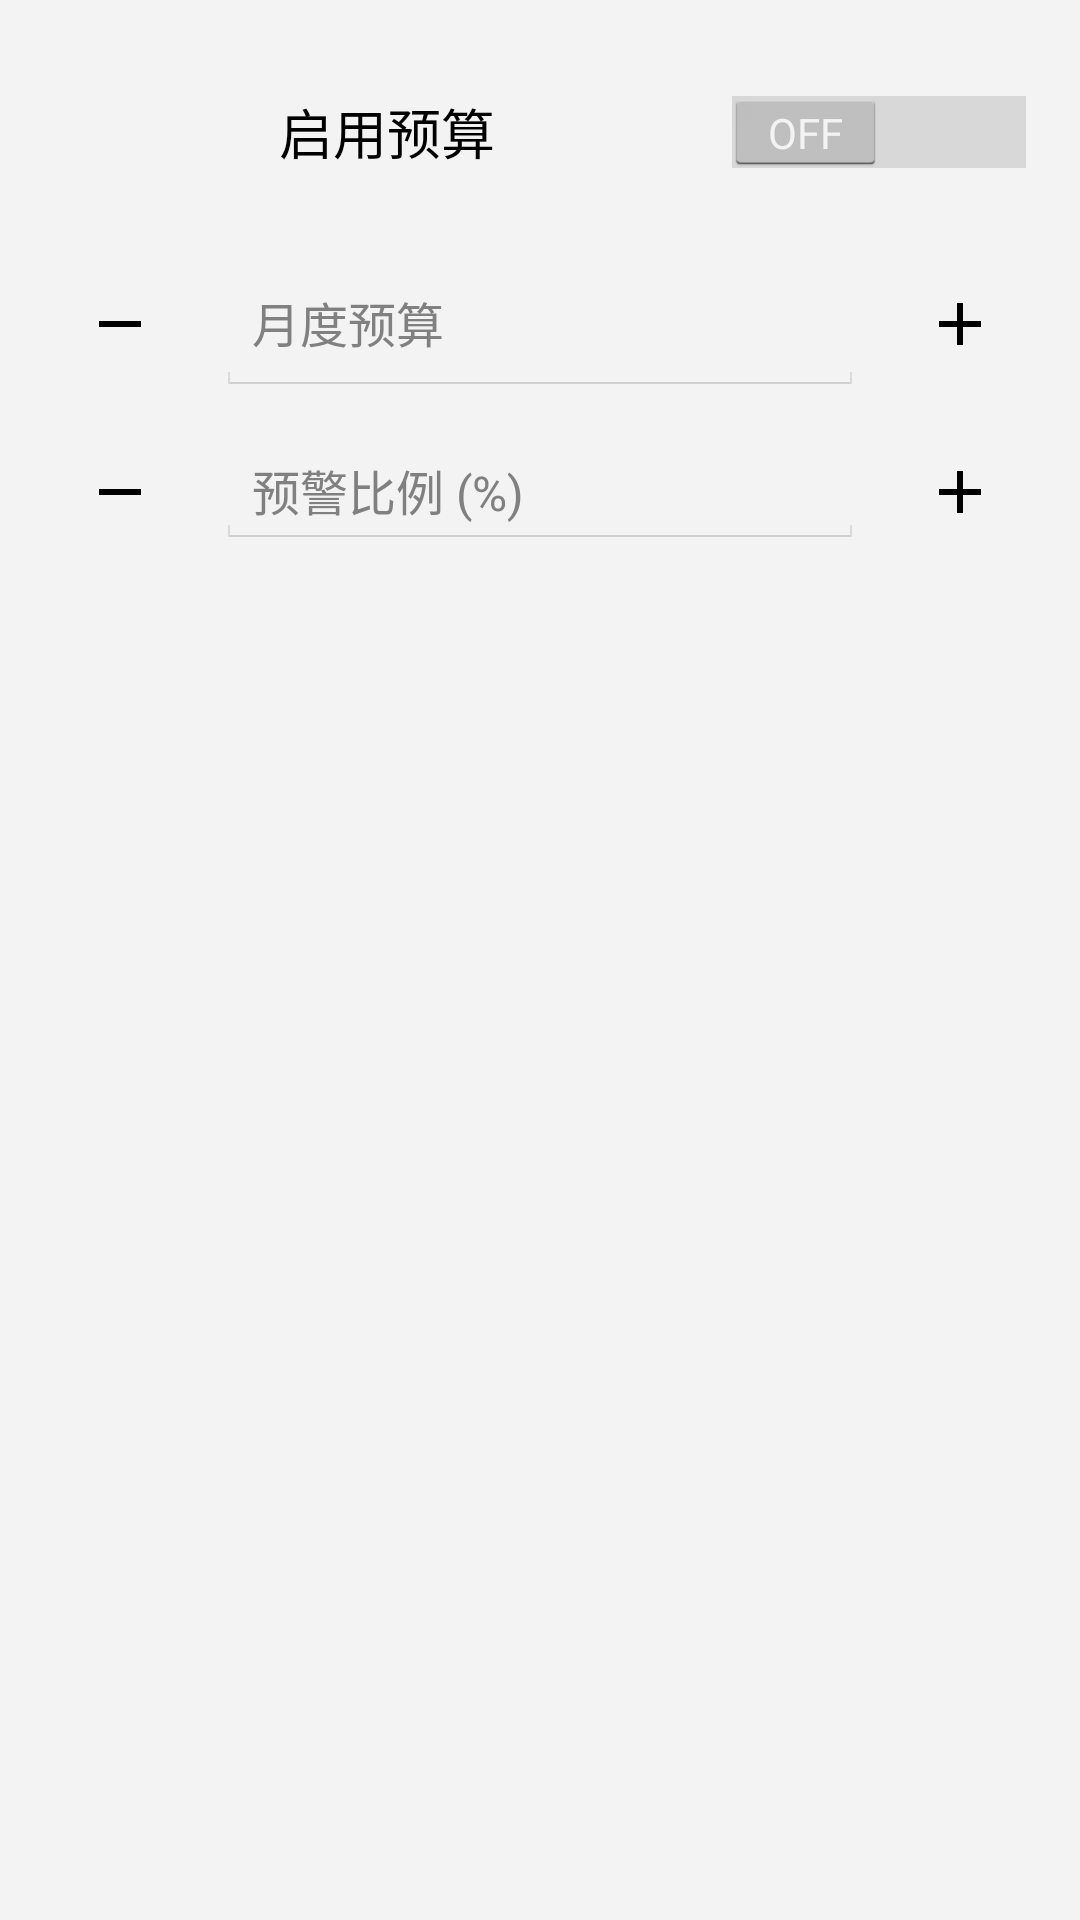

Locate icon controls on the screen. Image size 1080px x 1920px, boxes as (x1, y1, x2, y2).
exp add: (939, 303, 981, 345), (939, 471, 981, 513)
